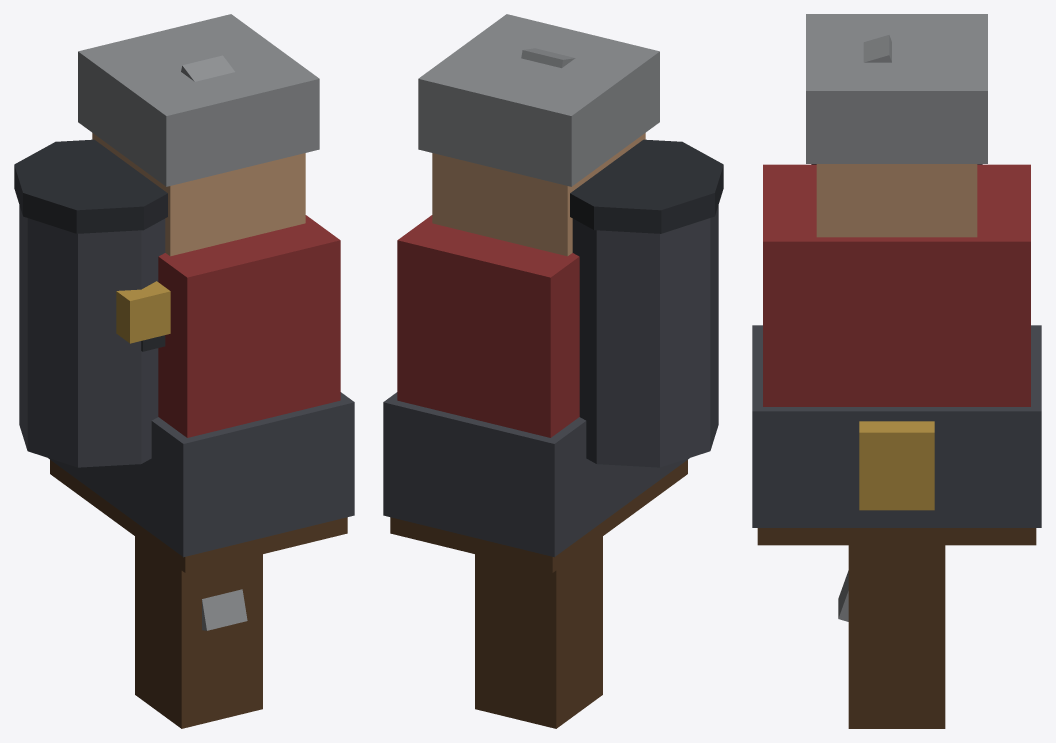
File: pressurebow.glb
3 views of the same model, side by side, from view 1: azimuth 30°, elevation 25°; view 2: azimuth 150°, elevation 25°; view 3: azimuth 270°, elevation 25° (orthographic). The views are drawn at different scales.
Visible parts, largest first — view 1: Cube, Cylinder, Cube.003, Cube.014, Cube.004, Cylinder.001, Cube.002, Cube.001, Cube.012, Cube.010, Cube.009; view 2: Cube, Cylinder, Cube.003, Cube.014, Cube.004, Cylinder.001, Cube.002, Cube.001, Cube.009; view 3: Cube, Cube.014, Cube.003, Cube.004, Cube.002, Cube.011, Cube.001, Cube.009.
Part boxes in pixels (bbox=[...]): Cube: bbox=[158, 215, 340, 437]; Cylinder: bbox=[19, 205, 165, 467]; Cube.003: bbox=[78, 14, 319, 186]; Cube.014: bbox=[48, 392, 354, 557]; Cube.004: bbox=[135, 536, 262, 728]; Cylinder.001: bbox=[14, 139, 167, 233]; Cube.002: bbox=[92, 133, 305, 256]; Cube.001: bbox=[50, 460, 347, 572]; Cube.012: bbox=[116, 281, 170, 343]; Cube.010: bbox=[202, 589, 247, 630]; Cube.009: bbox=[181, 55, 234, 81]; Cube: bbox=[397, 215, 579, 437]; Cylinder: bbox=[572, 205, 718, 467]; Cube.003: bbox=[418, 14, 659, 186]; Cube.014: bbox=[383, 392, 689, 557]; Cube.004: bbox=[475, 536, 602, 728]; Cylinder.001: bbox=[570, 139, 723, 233]; Cube.002: bbox=[432, 133, 645, 256]; Cube.001: bbox=[390, 460, 687, 572]; Cube.009: bbox=[521, 48, 575, 68]; Cube: bbox=[763, 164, 1030, 406]; Cube.014: bbox=[752, 325, 1041, 527]; Cube.003: bbox=[806, 14, 987, 163]; Cube.004: bbox=[848, 545, 945, 728]; Cube.002: bbox=[816, 164, 977, 237]; Cube.011: bbox=[859, 421, 934, 510]; Cube.001: bbox=[757, 528, 1036, 545]; Cube.009: bbox=[863, 35, 891, 62].
Size of the model in its own units: 6.3 by 13.66 by 5.4.
